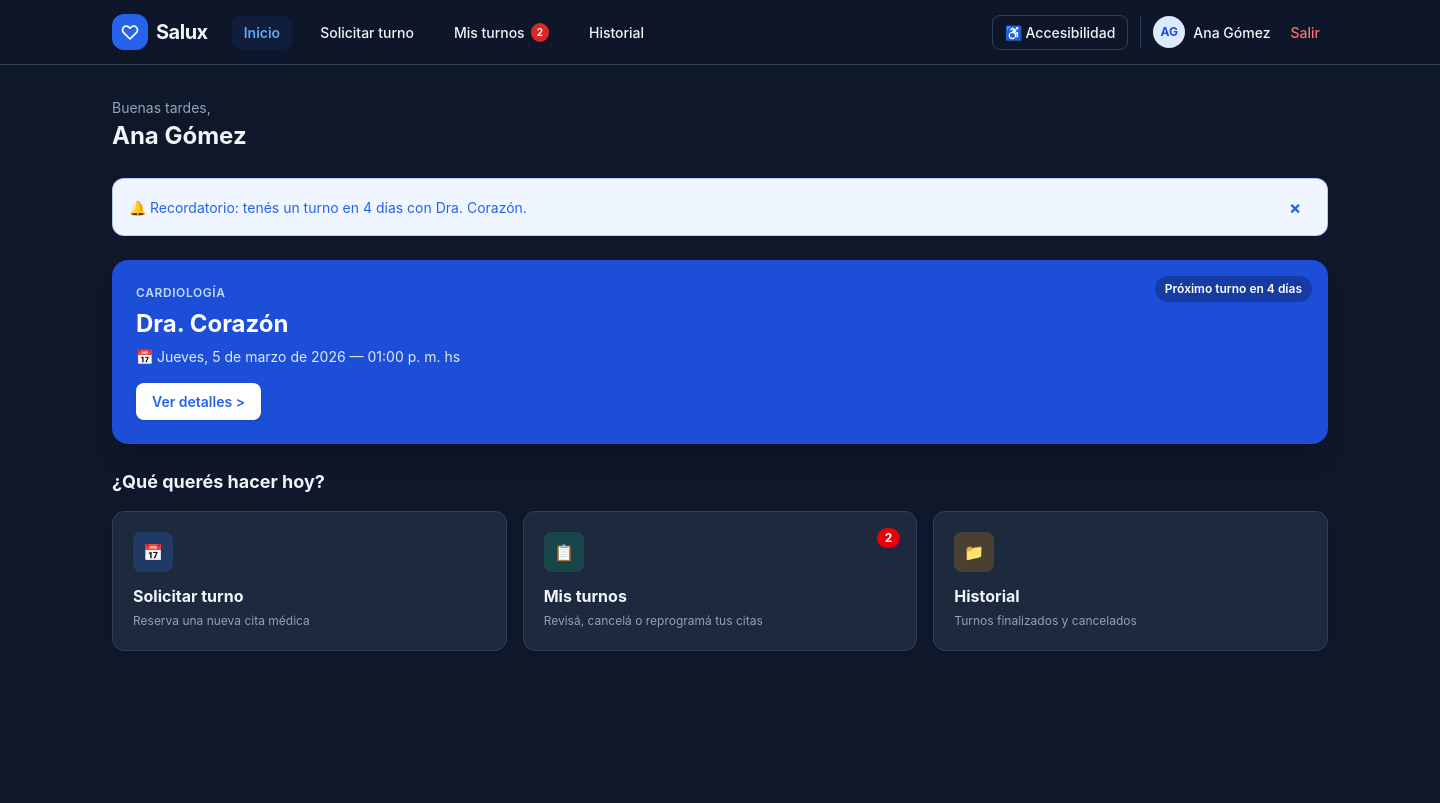
Test case: paciente › mis turnos › lista cada turno con médico, especialidad y estado
Expected: the text "🔔 Recordatorio: tenés un turno en 4 días con Dra. Corazón." is shown, top-left (129, 196), bottom-right (527, 218)
Click the button "Mis turnos 2" at (501, 32), box top-left (442, 16), bottom-right (561, 48)
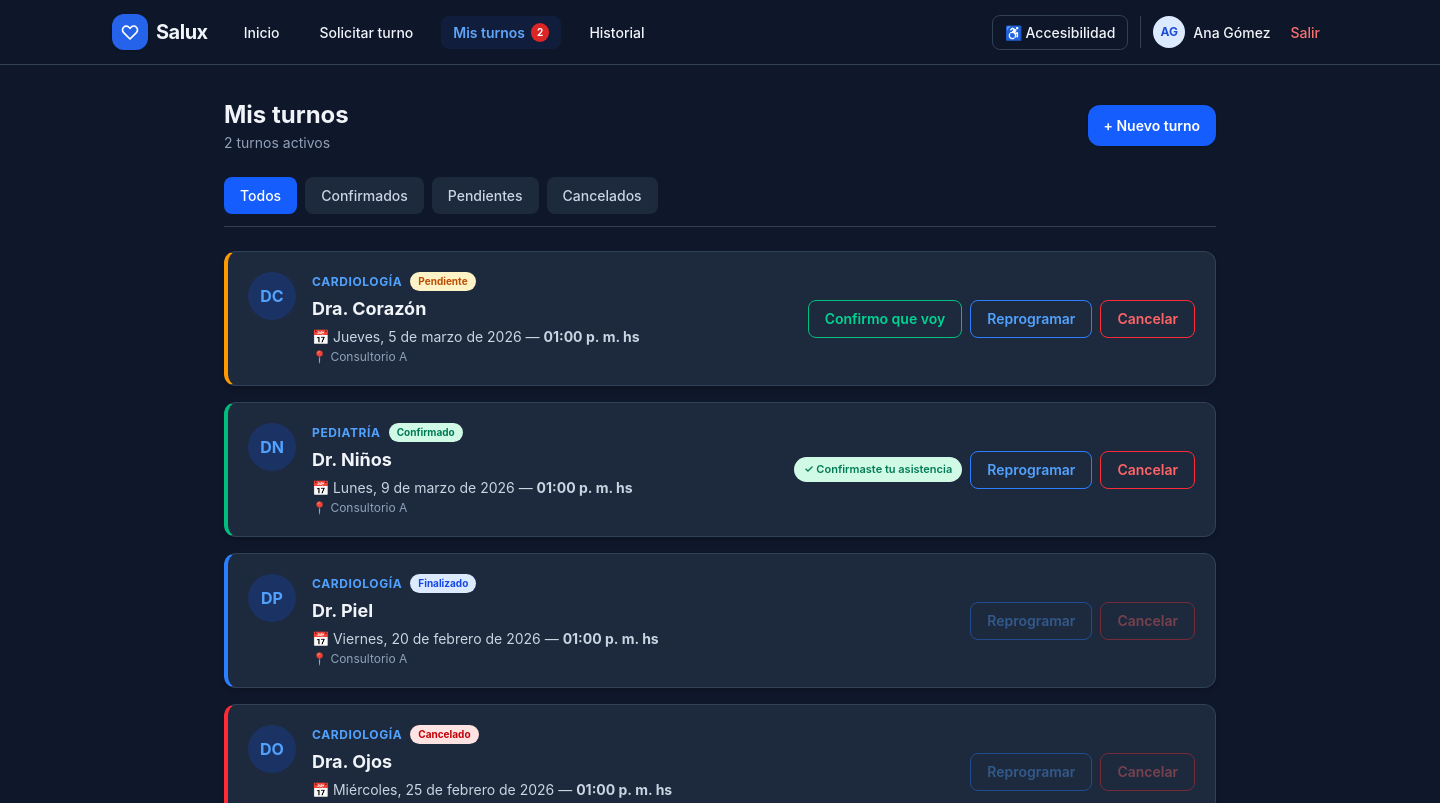
Now the text "Pendiente" is shown, box top-left (410, 272), bottom-right (476, 291)
Now the text "Cardiología" next to "DC" is shown, box top-left (312, 274), bottom-right (402, 288)
Now the text "📍 Consultorio A" below "Jueves, 5 de marzo de 2026" is shown, box top-left (312, 349), bottom-right (407, 364)
